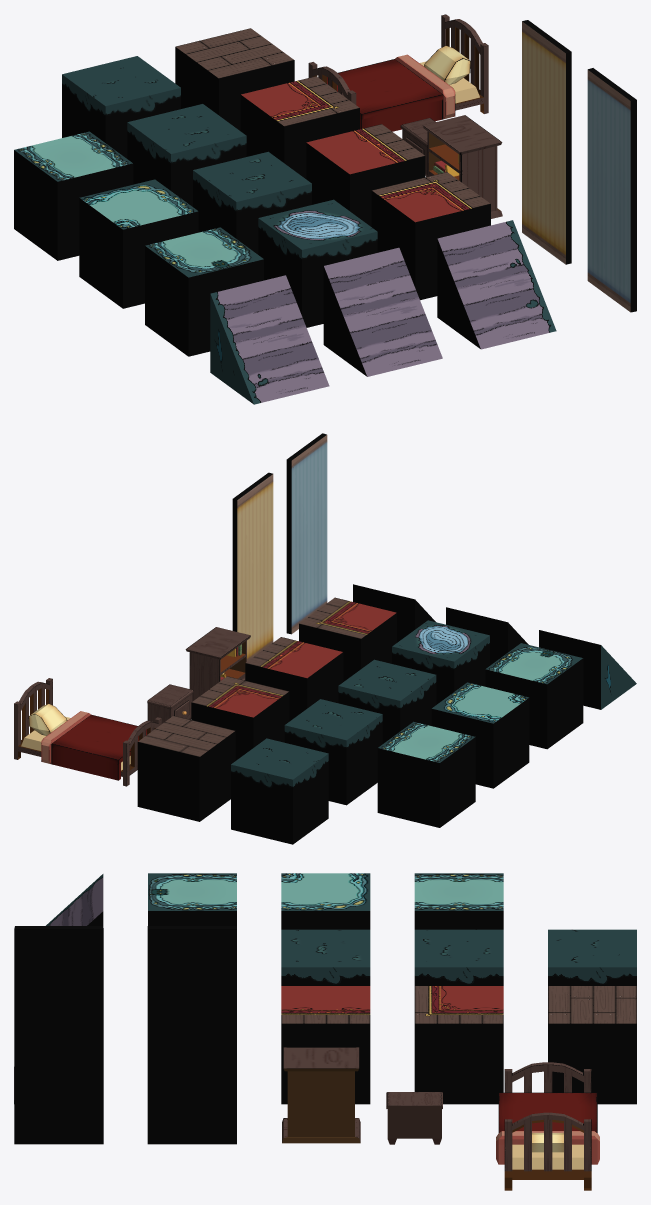
Rendered from Level_Tiles.glb.
3 renders of one model, top to bottom at view 1: azimuth 30°, elevation 25°; view 2: azimuth 150°, elevation 25°; view 3: azimuth 270°, elevation 25°, orthographic. The views are drawn at different scales.
Visible parts, largest first — view 1: Slope SideM-col, Slope SideL-col, Slope SideR-col, Wallpaper_1-col, Wallpaper_2-col, Bed-col, Path_2-col, Path_1-col, Path_3-col, MainFloorRugB-col, Floor_4-col, Floor_1-col (+7 smaller); view 2: Path_1-col, Floor_1-col, MainFloor_1-col, Bed-col, Wallpaper_1-col, Wallpaper_2-col, Path_3-col, Path_2-col, Floor_2-col, MainFloorRugT-col, MainFloorRugM-col, Floor_3-col (+7 smaller); view 3: Wallpaper_1-col, Wallpaper_2-col, Bed-col, MainFloorRugT-col, MainFloor_1-col, Shelf-col, MainFloorRugM-col, Path_2-col, Path_1-col, Floor_2-col, Floor_3-col, Floor_1-col (+3 smaller).
Boxes of the visible parts, x1=… form: Slope SideM-col: x1=323, y1=247, x2=442, y2=376; Slope SideL-col: x1=210, y1=275, x2=329, y2=404; Slope SideR-col: x1=437, y1=220, x2=556, y2=349; Wallpaper_1-col: x1=587, y1=68, x2=636, y2=312; Wallpaper_2-col: x1=522, y1=20, x2=571, y2=264; Bed-col: x1=308, y1=14, x2=488, y2=131; Path_2-col: x1=79, y1=179, x2=198, y2=308; Path_1-col: x1=14, y1=131, x2=133, y2=260; Path_3-col: x1=145, y1=227, x2=263, y2=356; MainFloorRugB-col: x1=371, y1=172, x2=490, y2=300; Floor_4-col: x1=258, y1=199, x2=377, y2=327; Floor_1-col: x1=62, y1=56, x2=180, y2=158; Path_1-col: x1=377, y1=721, x2=475, y2=827; Floor_1-col: x1=231, y1=738, x2=328, y2=844; MainFloor_1-col: x1=137, y1=715, x2=235, y2=821; Bed-col: x1=14, y1=678, x2=161, y2=786; Wallpaper_1-col: x1=286, y1=433, x2=327, y2=634; Wallpaper_2-col: x1=232, y1=472, x2=273, y2=661; Path_3-col: x1=485, y1=643, x2=583, y2=749; Path_2-col: x1=431, y1=682, x2=529, y2=788; Floor_2-col: x1=284, y1=699, x2=382, y2=805; MainFloorRugT-col: x1=191, y1=676, x2=289, y2=760; MainFloorRugM-col: x1=245, y1=637, x2=343, y2=721; Floor_3-col: x1=338, y1=659, x2=436, y2=743; Wallpaper_1-col: x1=14, y1=926, x2=103, y2=1144; Wallpaper_2-col: x1=147, y1=926, x2=236, y2=1144; Bed-col: x1=496, y1=1062, x2=599, y2=1190; MainFloorRugT-col: x1=414, y1=986, x2=503, y2=1104; MainFloor_1-col: x1=548, y1=986, x2=636, y2=1104; Shelf-col: x1=282, y1=1047, x2=360, y2=1143; MainFloorRugM-col: x1=281, y1=986, x2=370, y2=1104; Path_2-col: x1=281, y1=873, x2=370, y2=929; Path_1-col: x1=414, y1=873, x2=503, y2=929; Floor_2-col: x1=414, y1=929, x2=503, y2=985; Floor_3-col: x1=281, y1=929, x2=370, y2=985; Floor_1-col: x1=548, y1=929, x2=636, y2=985.
Size of the model in its own units: 12.57 by 5.36 by 14.01.
37 materials, 30 textured.
